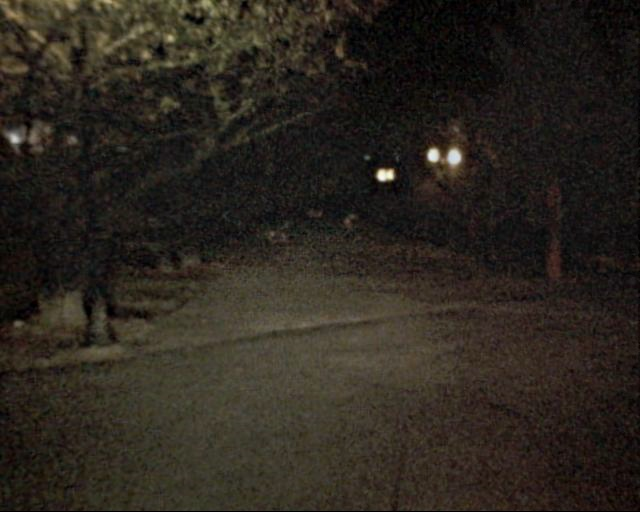person: (337, 211, 355, 256)
